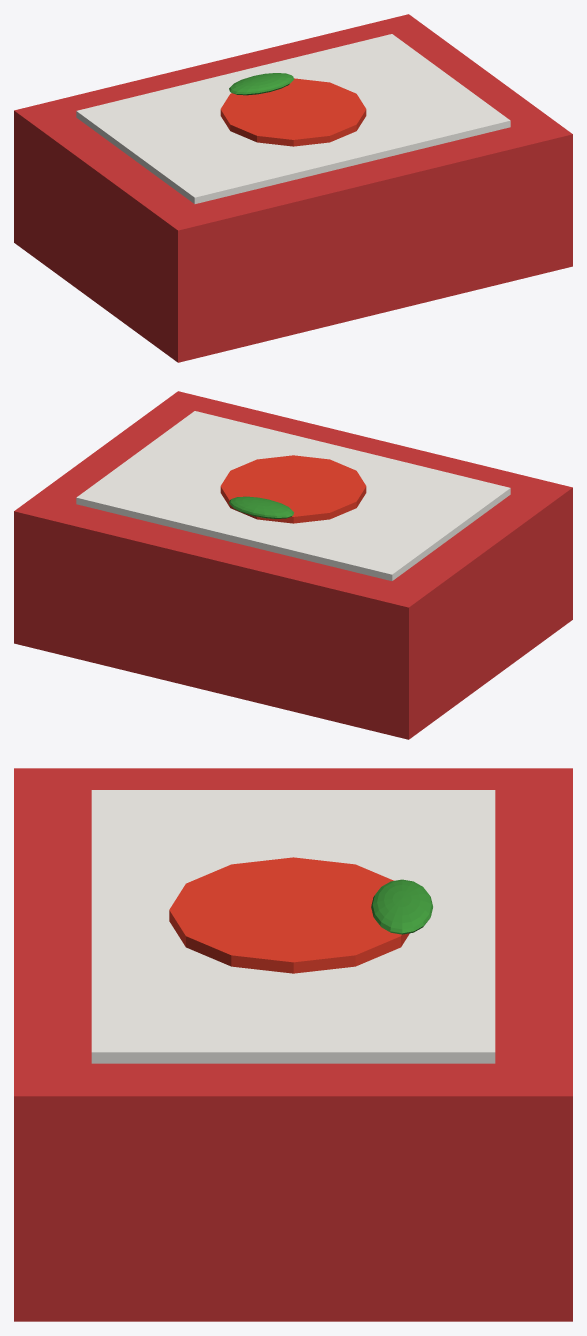
Rendered from seed_box.glb.
The picture shows the model from 3 angles, top to bottom: view 1: azimuth 30°, elevation 25°; view 2: azimuth 150°, elevation 25°; view 3: azimuth 270°, elevation 25°; orthographic projection. The views are drawn at different scales.
Visible parts, largest first — view 1: box_seedbox_red, lid_seedbox_white, tomato_seedbox_tomato, leaf_plant_leaf; view 2: box_seedbox_red, lid_seedbox_white, tomato_seedbox_tomato, leaf_plant_leaf; view 3: box_seedbox_red, lid_seedbox_white, tomato_seedbox_tomato, leaf_plant_leaf.
Boxes of the visible parts, x1,y1,x2,y2 form: box_seedbox_red: (14, 14, 572, 362); lid_seedbox_white: (76, 34, 510, 203); tomato_seedbox_tomato: (220, 78, 366, 146); leaf_plant_leaf: (229, 73, 293, 95); box_seedbox_red: (14, 391, 572, 739); lid_seedbox_white: (76, 411, 510, 580); tomato_seedbox_tomato: (220, 455, 366, 523); leaf_plant_leaf: (229, 496, 293, 518); box_seedbox_red: (14, 768, 572, 1321); lid_seedbox_white: (91, 790, 495, 1063); tomato_seedbox_tomato: (169, 857, 409, 973); leaf_plant_leaf: (371, 879, 432, 934).
Size of the model in its own units: 0.25 by 0.092 by 0.18.
